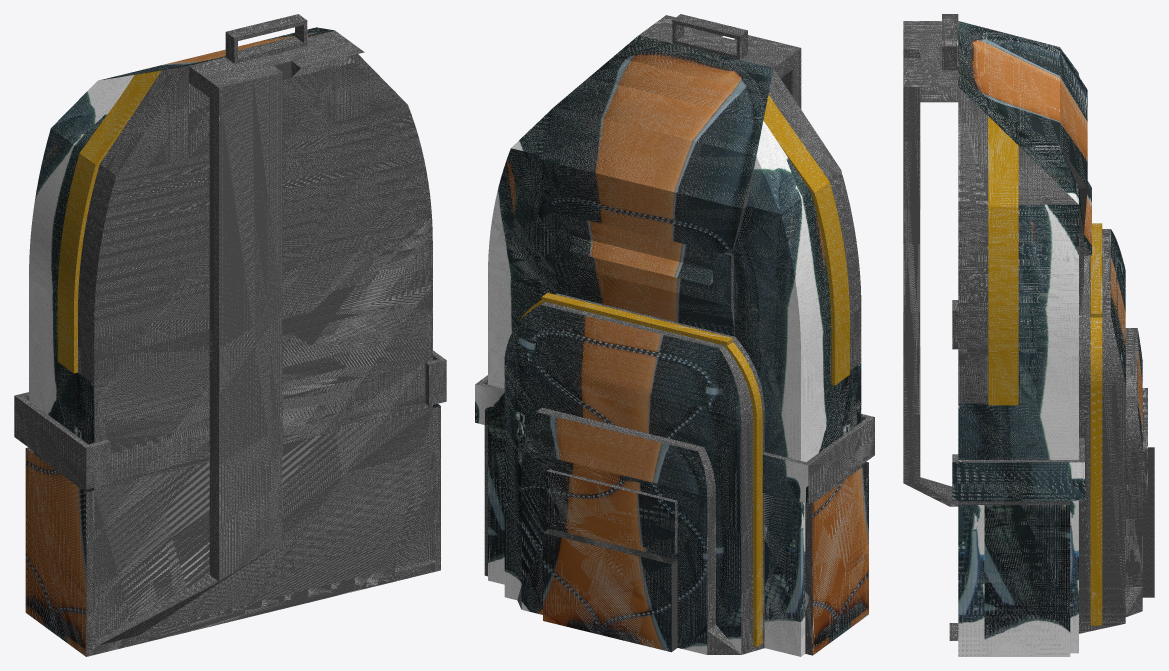
The model's file is backpack.dae.
The picture shows the model from 3 angles, left to right: view 1: azimuth 30°, elevation 25°; view 2: azimuth 150°, elevation 25°; view 3: azimuth 270°, elevation 25°; orthographic projection. The views are drawn at different scales.
Visible parts, largest first — view 1: SketchUp (×8); view 2: SketchUp (×17); view 3: SketchUp (×16).
Part boxes in pixels (x1=…): SketchUp (×8): x1=14, y1=14, x2=446, y2=656; SketchUp (×17): x1=475, y1=14, x2=874, y2=656; SketchUp (×16): x1=903, y1=14, x2=1154, y2=656.
Bounding box in the file's own units: 176 × 115 × 275.
